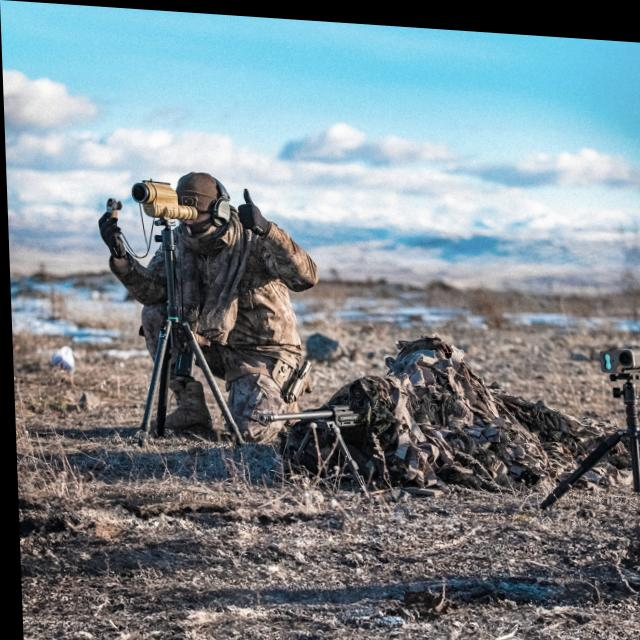poh_personel: (94, 165, 322, 447), (251, 319, 585, 508)
